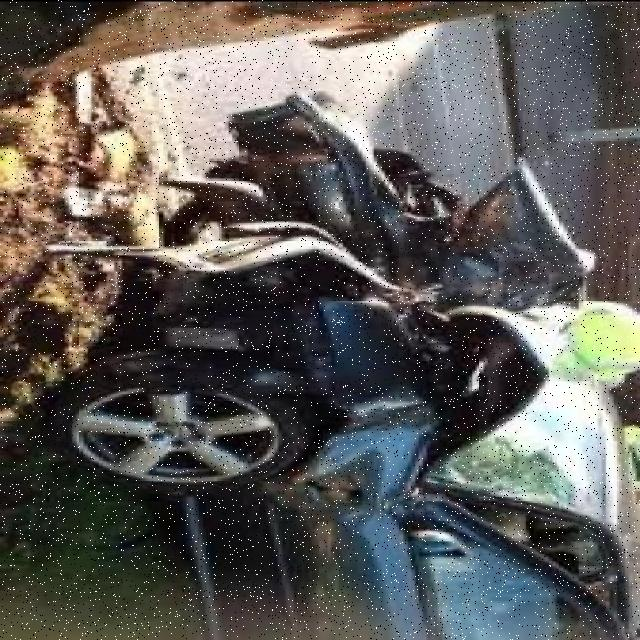damage: (48, 99, 635, 508)
